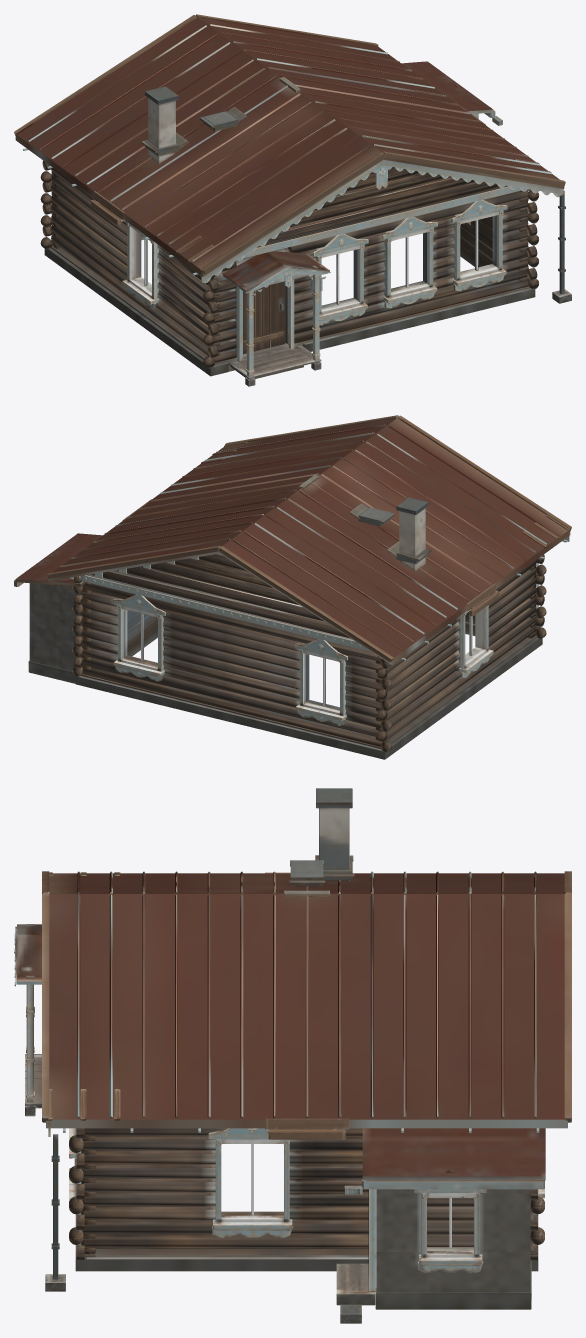
Rendered from meshy-retxt-4k-keepuv-v3.glb.
The picture shows the model from 3 angles, top to bottom: view 1: azimuth 30°, elevation 25°; view 2: azimuth 150°, elevation 25°; view 3: azimuth 270°, elevation 25°; orthographic projection. The views are drawn at different scales.
Bounding box in the file's own units: 2 × 0.9354 × 1.65.
1 material, 1 textured.
